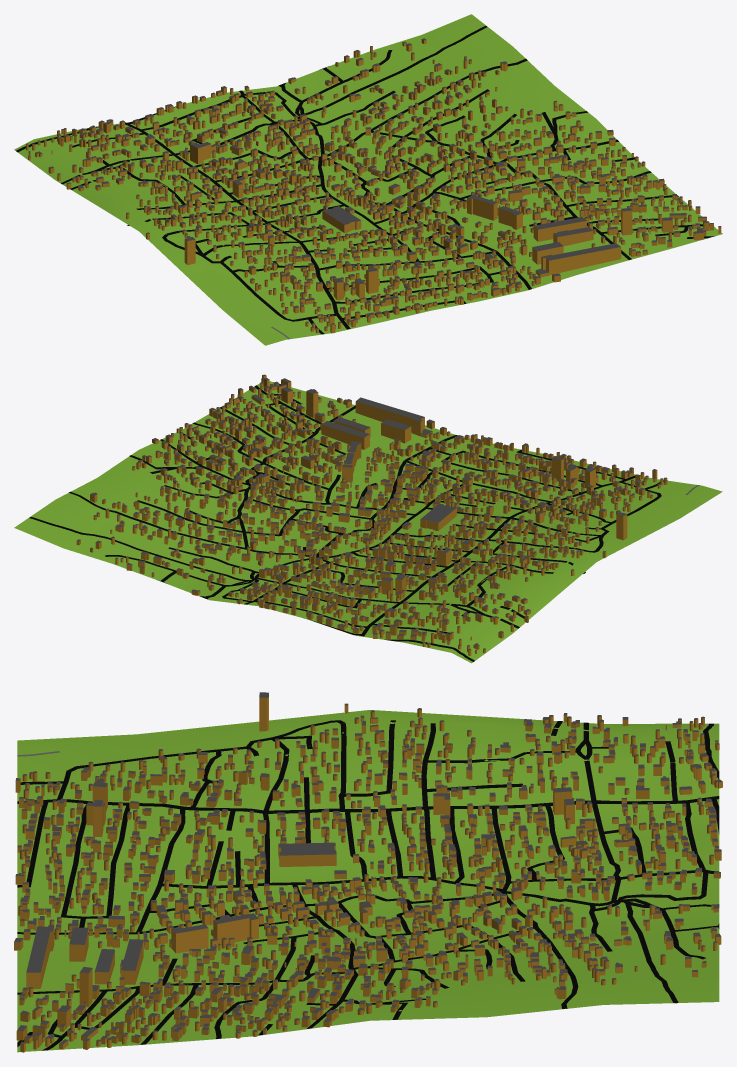
File: tile_10_06.glb
3 renders of one model, top to bottom at view 1: azimuth 30°, elevation 25°; view 2: azimuth 150°, elevation 25°; view 3: azimuth 270°, elevation 25°, orthographic. The views are drawn at different scales.
Visible parts, largest first — view 1: Terrain_10_06, Ub_small.osm_buildings_10_06, Ub_small.osm_roads_residential_10_06, Ub_small.osm_roads_secondary_10_06; view 2: Ub_small.osm_buildings_10_06, Terrain_10_06, Ub_small.osm_roads_residential_10_06, Ub_small.osm_roads_secondary_10_06; view 3: Terrain_10_06, Ub_small.osm_buildings_10_06, Ub_small.osm_roads_residential_10_06, Ub_small.osm_roads_secondary_10_06.
Part boxes in pixels (bbox=[...]): Terrain_10_06: bbox=[14, 14, 722, 345]; Ub_small.osm_buildings_10_06: bbox=[26, 38, 721, 333]; Ub_small.osm_roads_residential_10_06: bbox=[16, 25, 722, 334]; Ub_small.osm_roads_secondary_10_06: bbox=[125, 122, 350, 329]; Ub_small.osm_buildings_10_06: bbox=[76, 374, 667, 655]; Terrain_10_06: bbox=[14, 381, 722, 663]; Ub_small.osm_roads_residential_10_06: bbox=[29, 384, 663, 661]; Ub_small.osm_roads_secondary_10_06: bbox=[360, 474, 638, 636]; Terrain_10_06: bbox=[17, 710, 719, 1052]; Ub_small.osm_buildings_10_06: bbox=[14, 692, 722, 1052]; Ub_small.osm_roads_residential_10_06: bbox=[17, 720, 719, 1051]; Ub_small.osm_roads_secondary_10_06: bbox=[17, 796, 719, 813].
Size of the model in its own units: 987 by 97.29 by 940.
